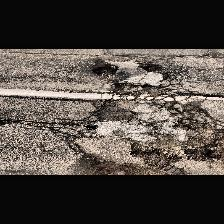pothole: (130, 148, 174, 170), (182, 143, 222, 161), (92, 60, 118, 76), (138, 63, 162, 73), (84, 124, 96, 130)
